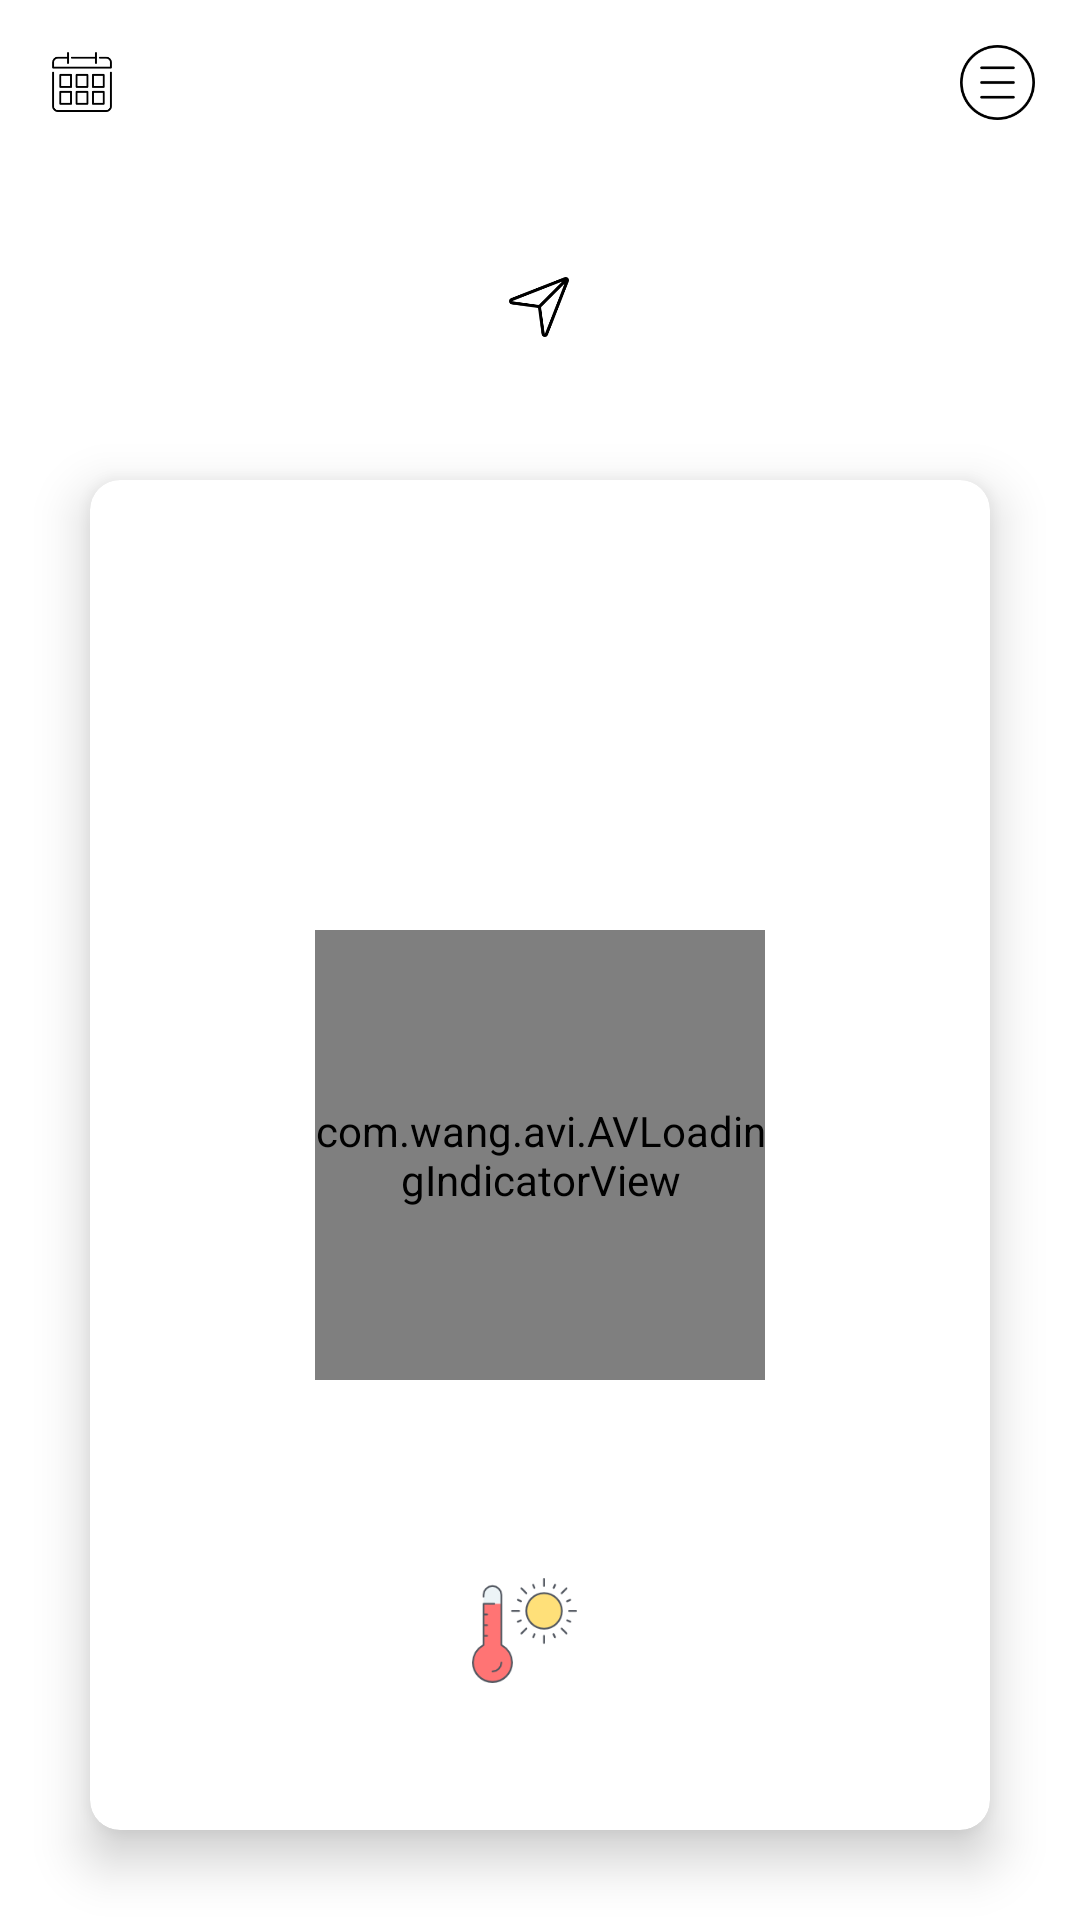

Where icons sit on this 1080*1920 app screen, as BBox(x1, y1, x2, y2):
calendar: BBox(52, 52, 112, 112)
menu: BBox(960, 45, 1035, 120)
thermometer: BBox(472, 1578, 577, 1683)
